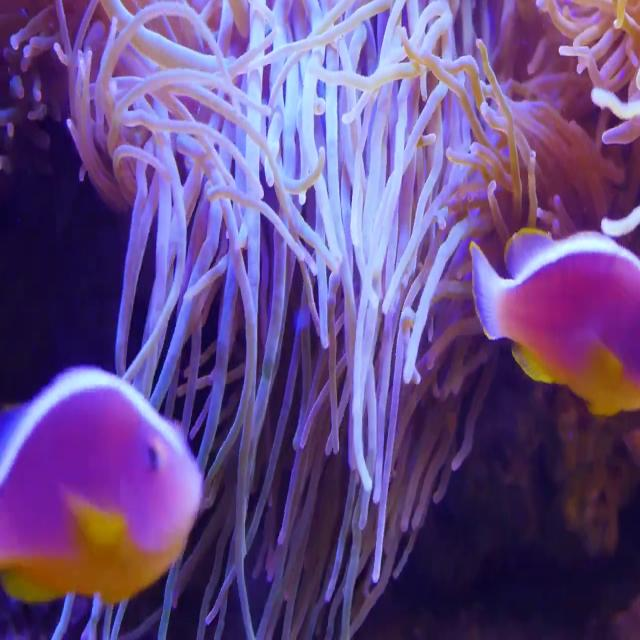fish: (0, 354, 205, 616), (465, 185, 640, 432)
